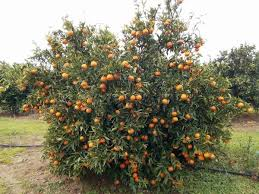orange: (162, 98, 169, 106), (106, 75, 113, 81), (154, 71, 161, 77)
